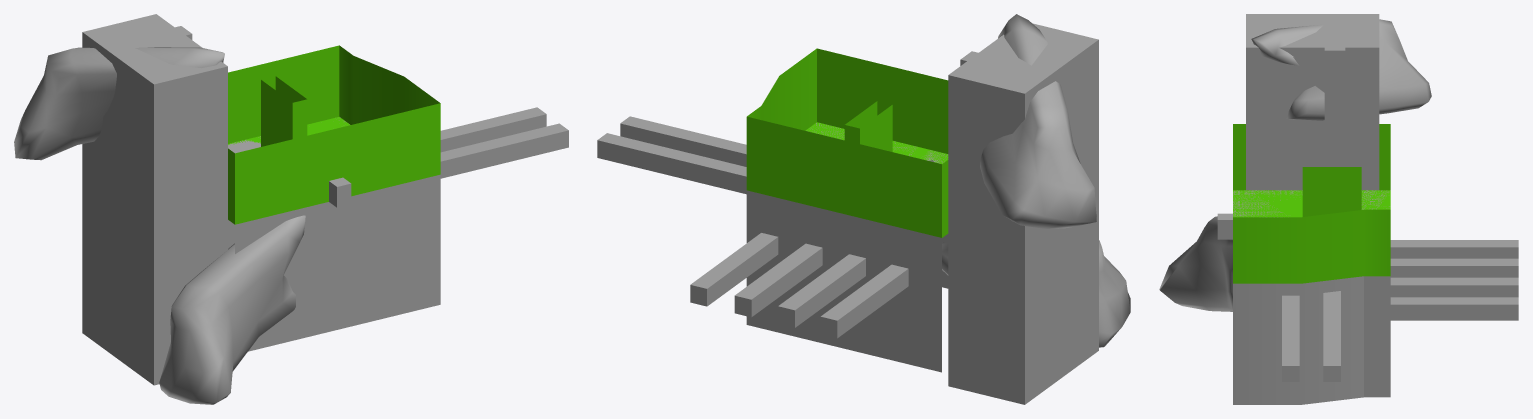
Rendered from DressingSala_N1_D.fbx.
The picture shows the model from 3 angles, left to right: view 1: azimuth 30°, elevation 25°; view 2: azimuth 150°, elevation 25°; view 3: azimuth 270°, elevation 25°; orthographic projection. The views are drawn at different scales.
Parts seen in each view (by area): view 1: Concreto11, PlayerNoFall, Escenario, Carne, Carne4, Concreto6, AntiFallBetween, Concreto, ElevadorEntrada8, Ground, Wall; view 2: Concreto11, PlayerNoFall, Escenario, Carne4, Concreto, Concreto6, Concreto10, Concreto7, Concreto8, Concreto9, Carne, AntiFallBetween (+2 smaller); view 3: Concreto11, Escenario, PlayerNoFall, Carne4, Carne, Concreto7, AntiFallBetween, Concreto8, Concreto9, Ground, Concreto10, Wall (+3 smaller).
Boxes of the visible parts, x1,y1,x2,y2 form: Concreto11: (82,14,227,385); PlayerNoFall: (228,45,440,224); Escenario: (228,117,440,351); Carne: (159,215,305,404); Carne4: (14,47,224,160); Concreto6: (228,123,568,230); AntiFallBetween: (261,76,307,146); Concreto: (440,107,546,152); ElevadorEntrada8: (329,177,351,207); Ground: (228,117,350,144); Wall: (228,148,234,224); Concreto11: (948,23,1098,404); PlayerNoFall: (746,48,948,237); Escenario: (746,123,948,372); Carne4: (980,14,1096,228); Concreto: (597,133,948,243); Concreto6: (620,116,746,166); Concreto10: (820,264,908,338); Concreto7: (690,233,778,306); Concreto8: (734,243,822,317); Concreto9: (778,254,865,327); Carne: (929,160,1130,347); AntiFallBetween: (844,101,892,151); Concreto11: (1246,14,1379,190); Escenario: (1233,190,1390,404); PlayerNoFall: (1233,209,1390,283); Carne4: (1251,19,1431,120); Carne: (1159,216,1232,311); Concreto7: (1390,297,1518,320); AntiFallBetween: (1302,167,1361,216); Concreto8: (1390,277,1518,297); Concreto9: (1390,258,1518,277); Ground: (1233,190,1390,217); Concreto10: (1390,240,1518,258); Wall: (1233,124,1390,190).
Size of the model in its own units: 124 by 74.11 by 82.16.
